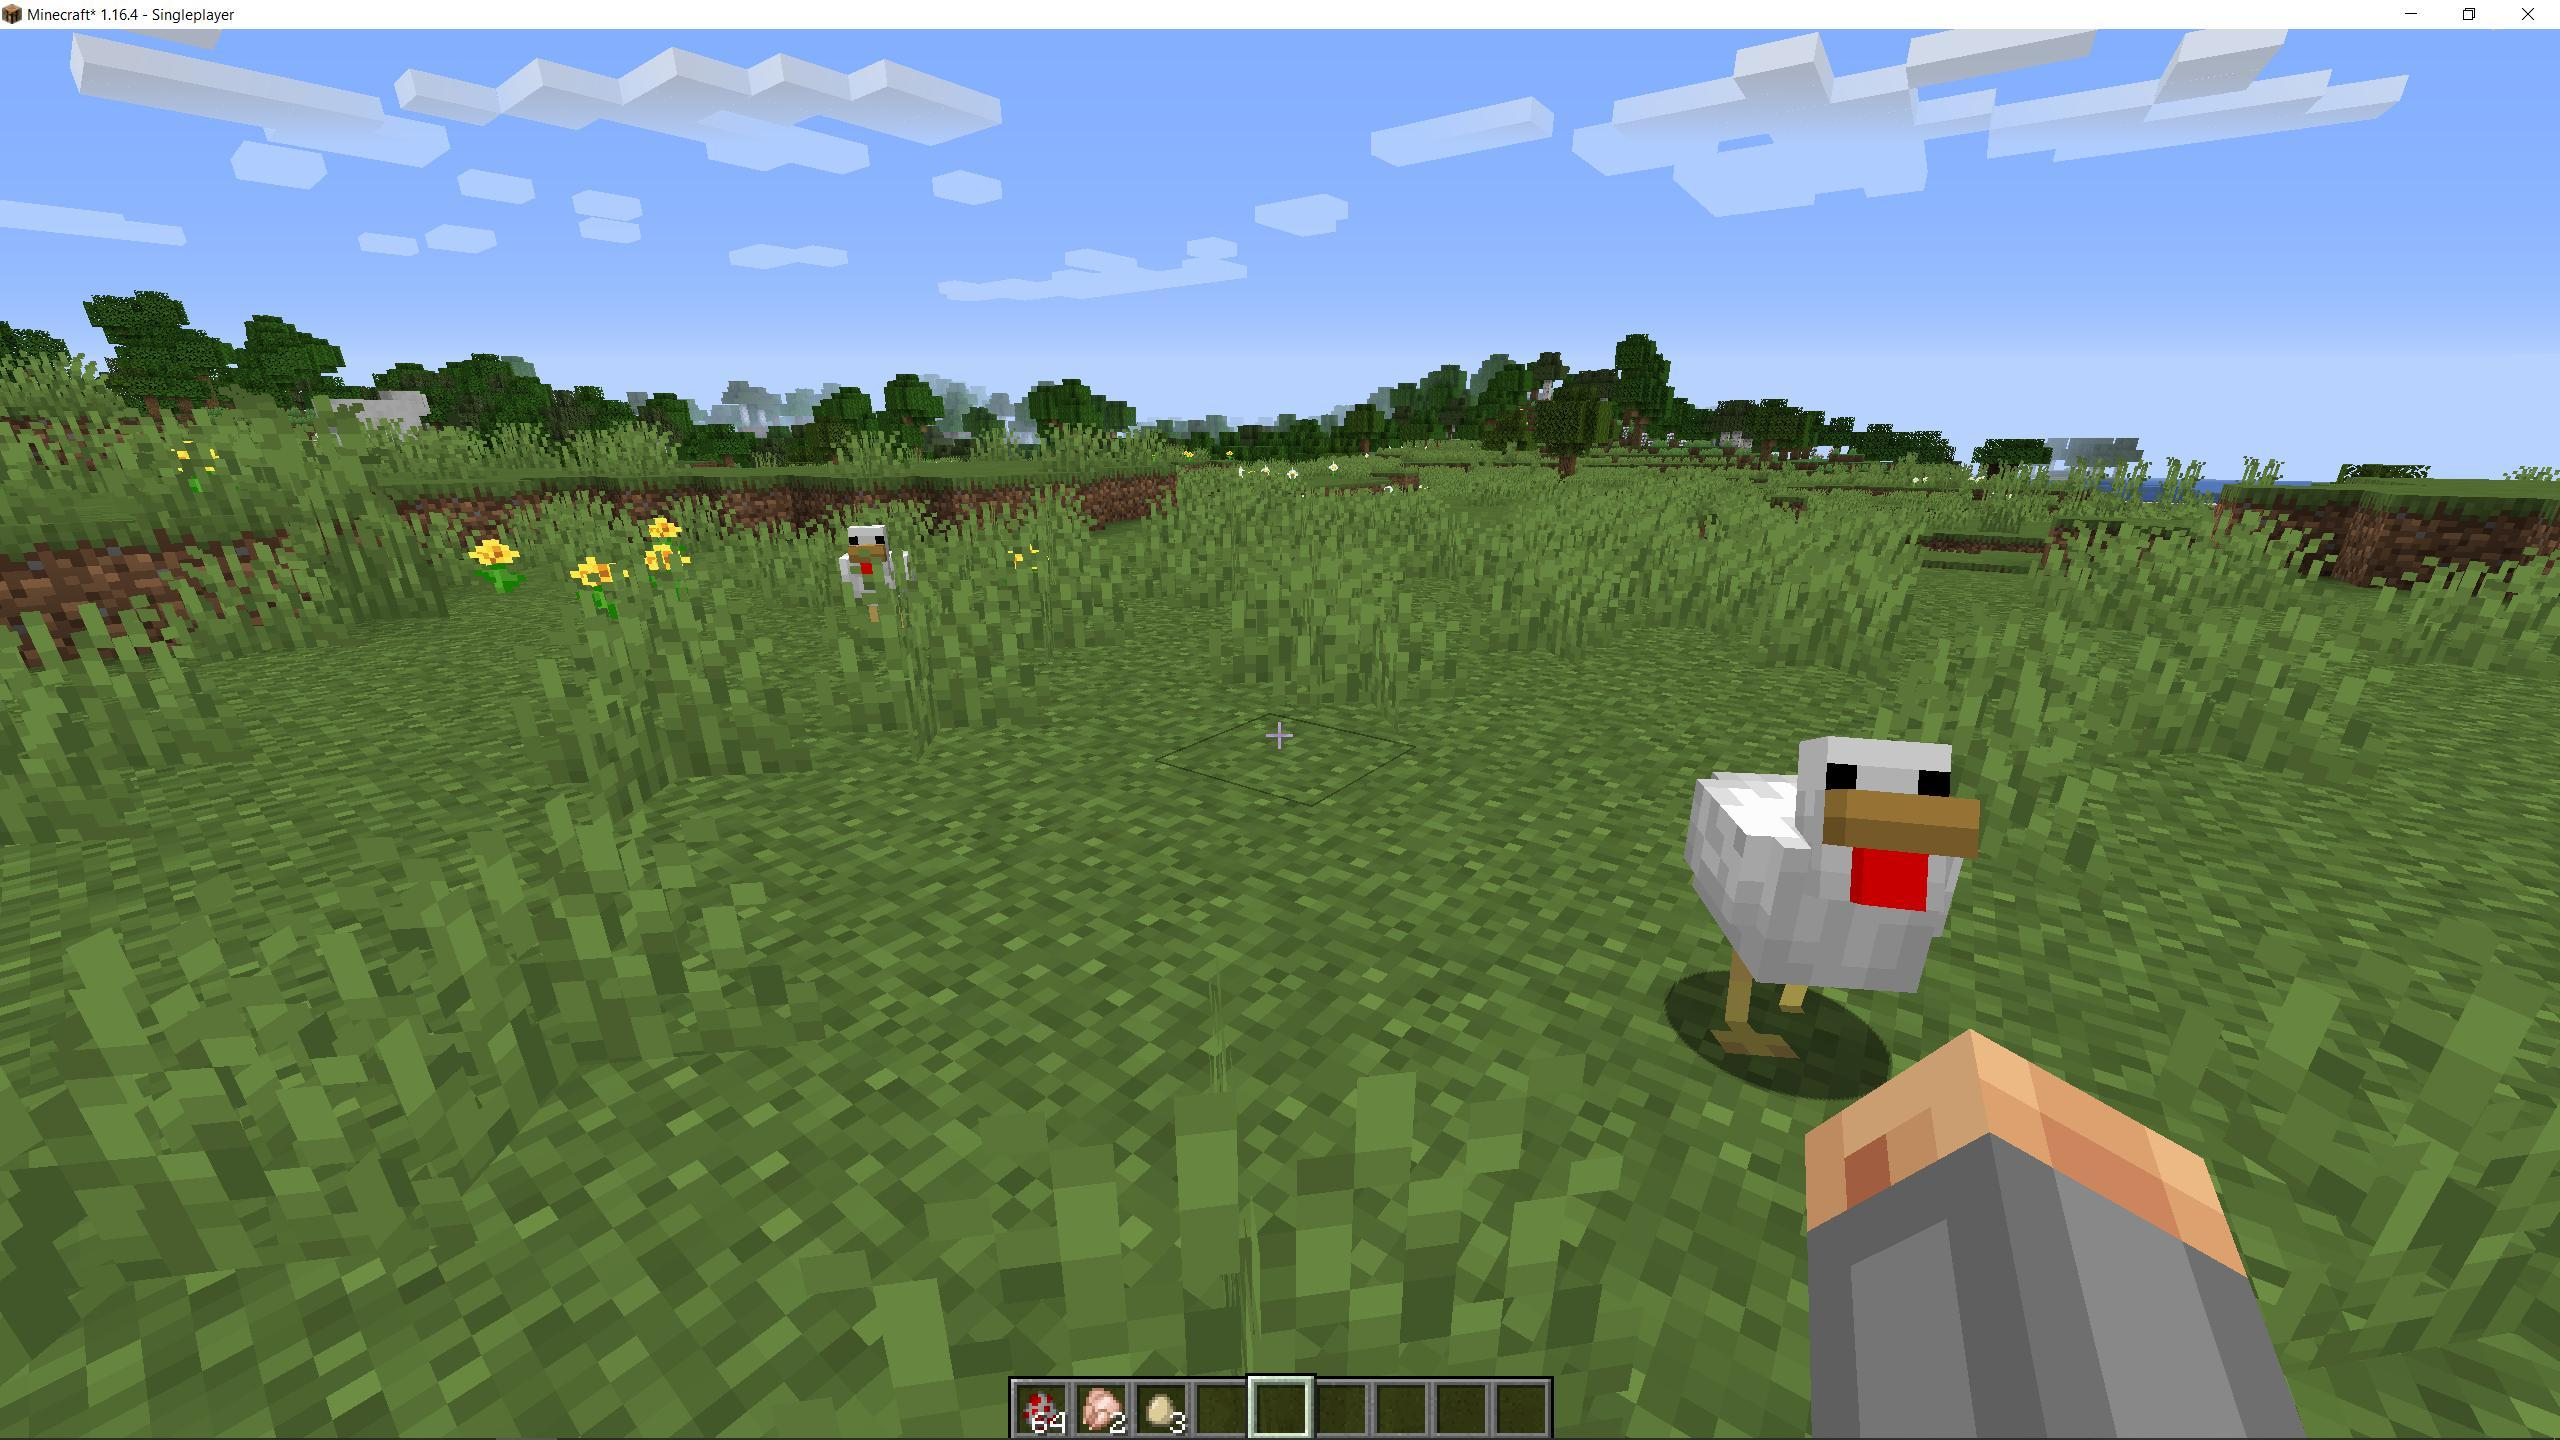chicken: (1669, 719, 1983, 1080), (826, 512, 928, 642)
